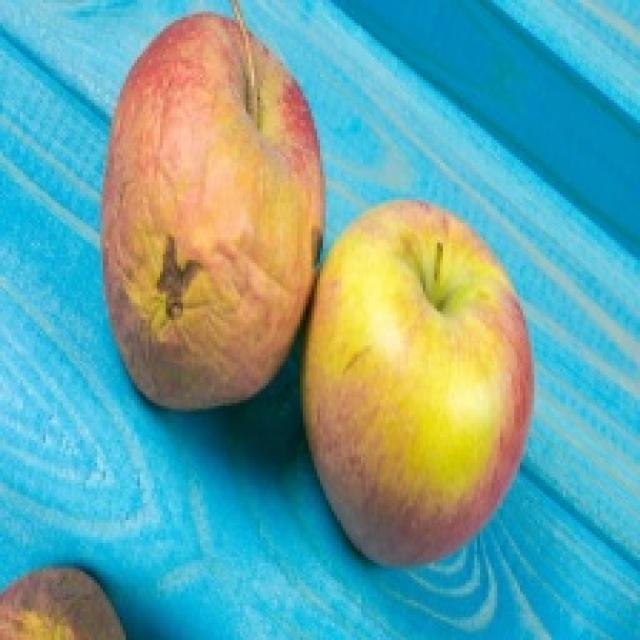rotten_apple: (105, 14, 316, 406)
